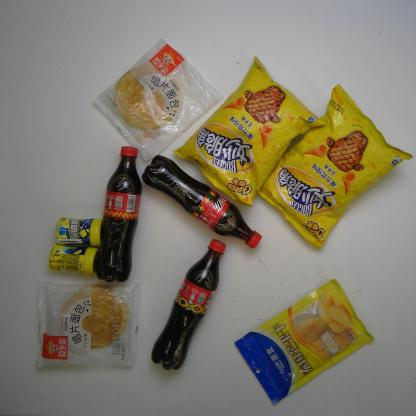Dessert: (92, 38, 224, 162), (37, 282, 141, 368)
Dried Fruit: (234, 278, 375, 406)
Drink: (141, 154, 262, 250), (149, 238, 227, 372), (93, 144, 142, 285)
Gum: (48, 245, 100, 277), (55, 217, 104, 247)
Puffed Food: (255, 81, 414, 250), (173, 56, 326, 208)
